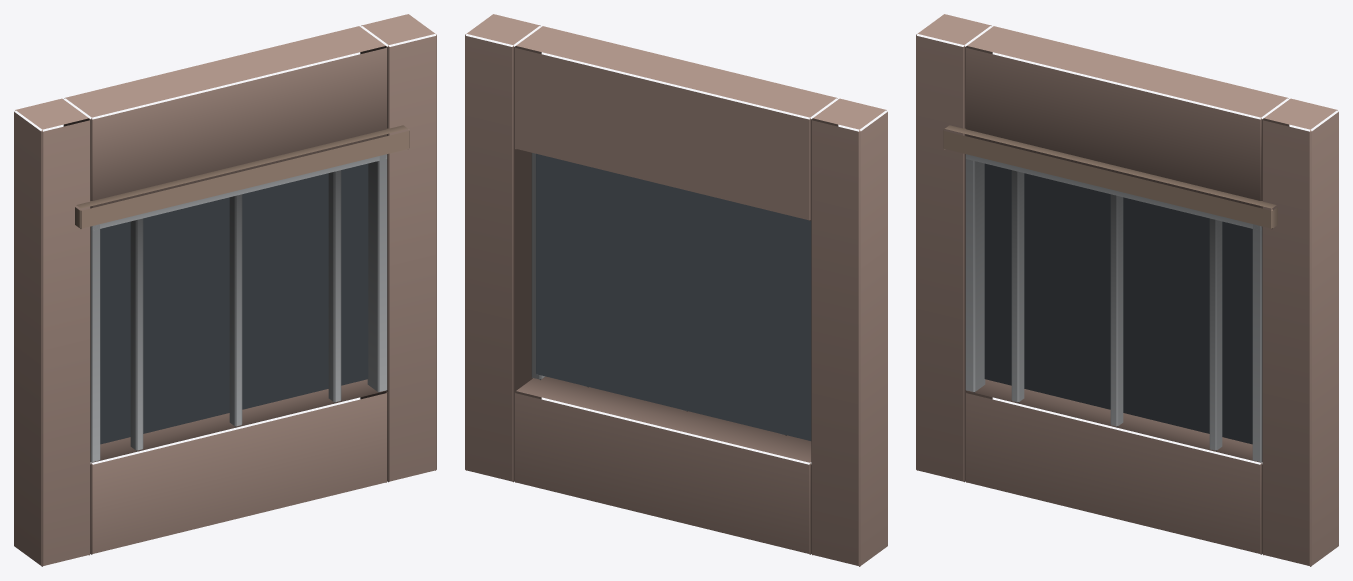
Rendered from bay_warehouse.glb.
The picture shows the model from 3 angles, left to right: view 1: azimuth 30°, elevation 25°; view 2: azimuth 150°, elevation 25°; view 3: azimuth 330°, elevation 25°; orthographic projection.
Visible parts, largest first — view 1: facade_bay_warehouse; view 2: facade_bay_warehouse; view 3: facade_bay_warehouse.
Part boxes in pixels (box(x1,y1,x2,y2)): facade_bay_warehouse: box(14, 14, 436, 566); facade_bay_warehouse: box(465, 14, 887, 566); facade_bay_warehouse: box(916, 14, 1338, 566).
Bounding box in the file's own units: 3.6 × 3.8 × 0.54.
